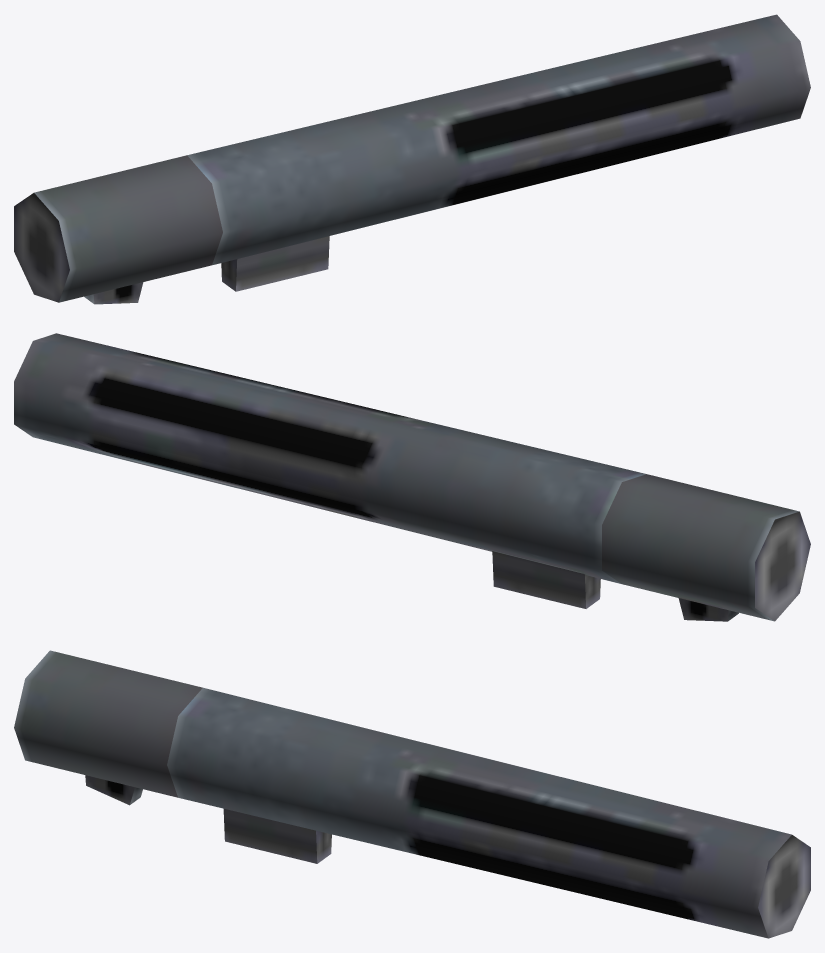
File: ST_WEP_SLR_Muzzle_Lod.FBX
The picture shows the model from 3 angles, top to bottom: view 1: azimuth 30°, elevation 25°; view 2: azimuth 150°, elevation 25°; view 3: azimuth 330°, elevation 25°; orthographic projection.
Parts seen in each view (by area): view 1: ST_WEP_SLR_Muzzle_Lod; view 2: ST_WEP_SLR_Muzzle_Lod; view 3: ST_WEP_SLR_Muzzle_Lod.
Part boxes in pixels (<box>): ST_WEP_SLR_Muzzle_Lod: <box>14,14,810,304</box>; ST_WEP_SLR_Muzzle_Lod: <box>14,333,810,621</box>; ST_WEP_SLR_Muzzle_Lod: <box>14,650,810,938</box>.
Size of the model in its own units: 17.89 by 3.12 by 2.34.
Materials: 1 (1 with a texture image).
